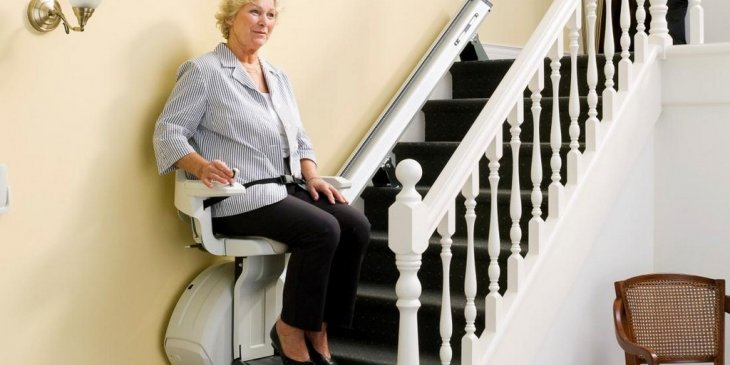chairs: (169, 89, 352, 257)
